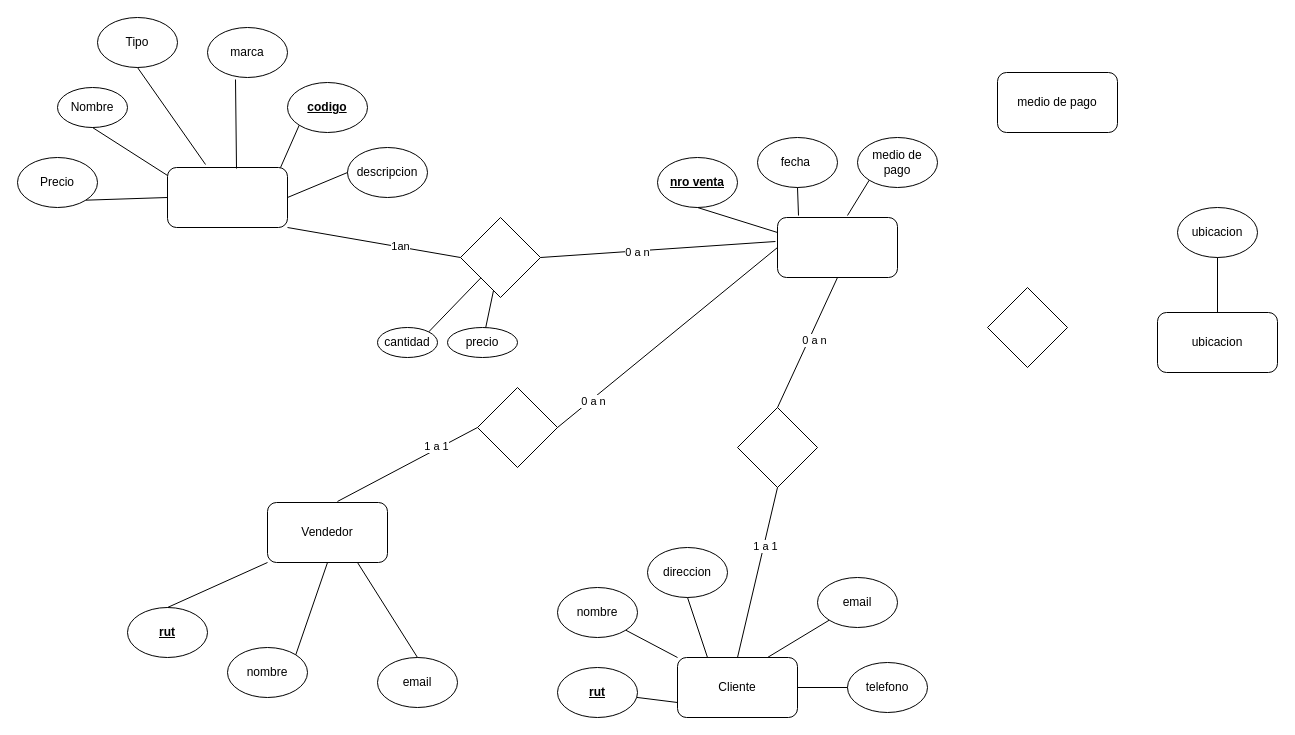
Image size: 1295x735. Some labels were removed from this diagram. Here are the shapes that lost their labels. From the top down, the box of each, then its label:
(166, 166, 288, 228): Producto
(460, 216, 540, 298): incluye n a n
(776, 216, 898, 278): Venta
(986, 286, 1068, 368): tiene
(476, 386, 558, 468): realiza 1 a n
(736, 406, 818, 488): Pide 1 a n
